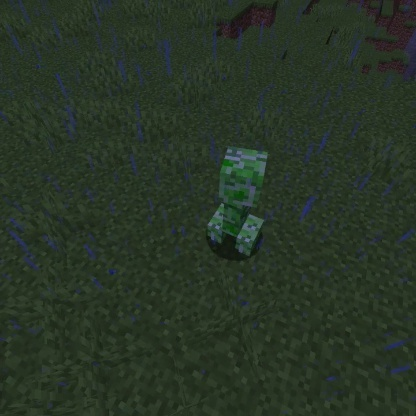creeper: (203, 143, 273, 261)
